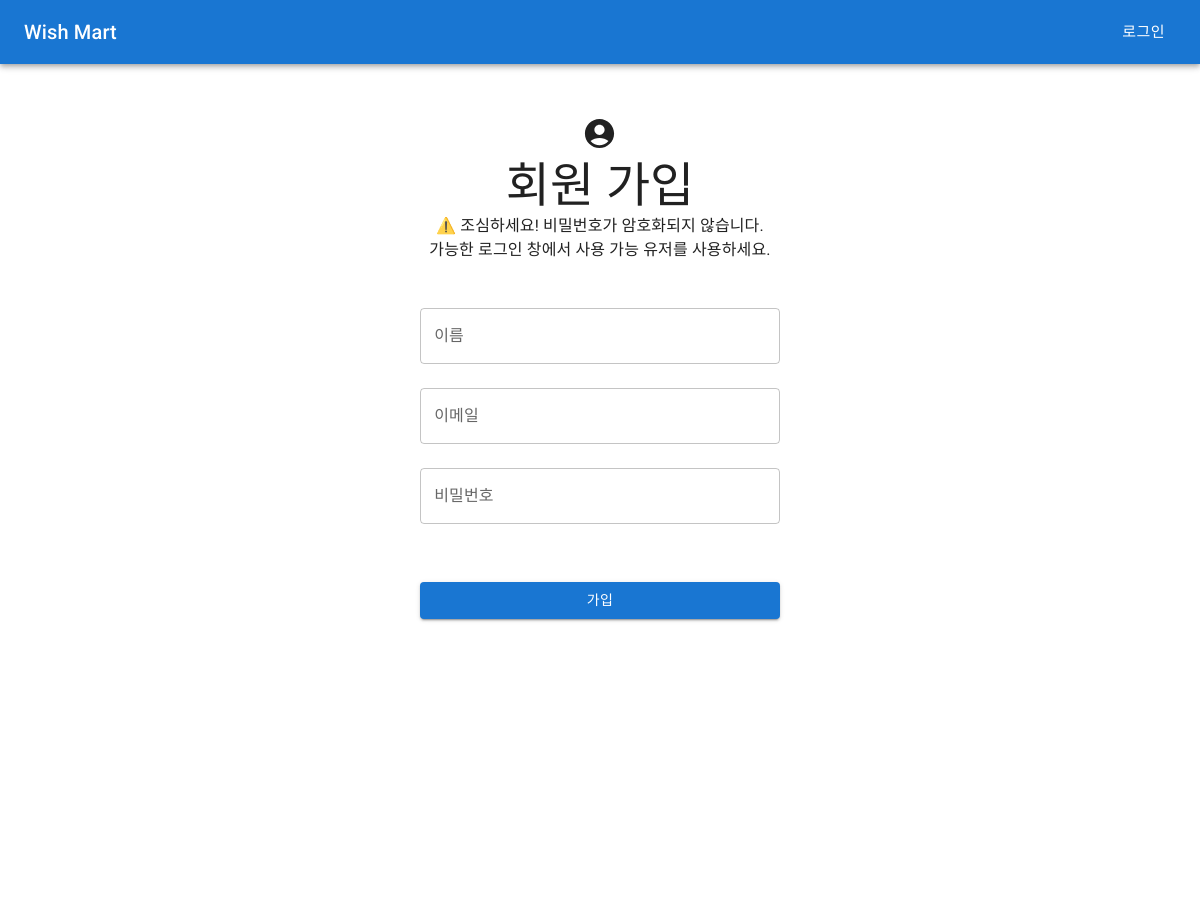
Scenario: 잘못된 양식의 이메일을 입력한 후 가입 버튼을 클릭하면 "이메일 양식이 올바르지 않습니다" 경고 메세지가 노출된다
The image size is (1200, 900).
In the field labelled "이메일": (600, 416) [420,388,780,444], type "email.com"
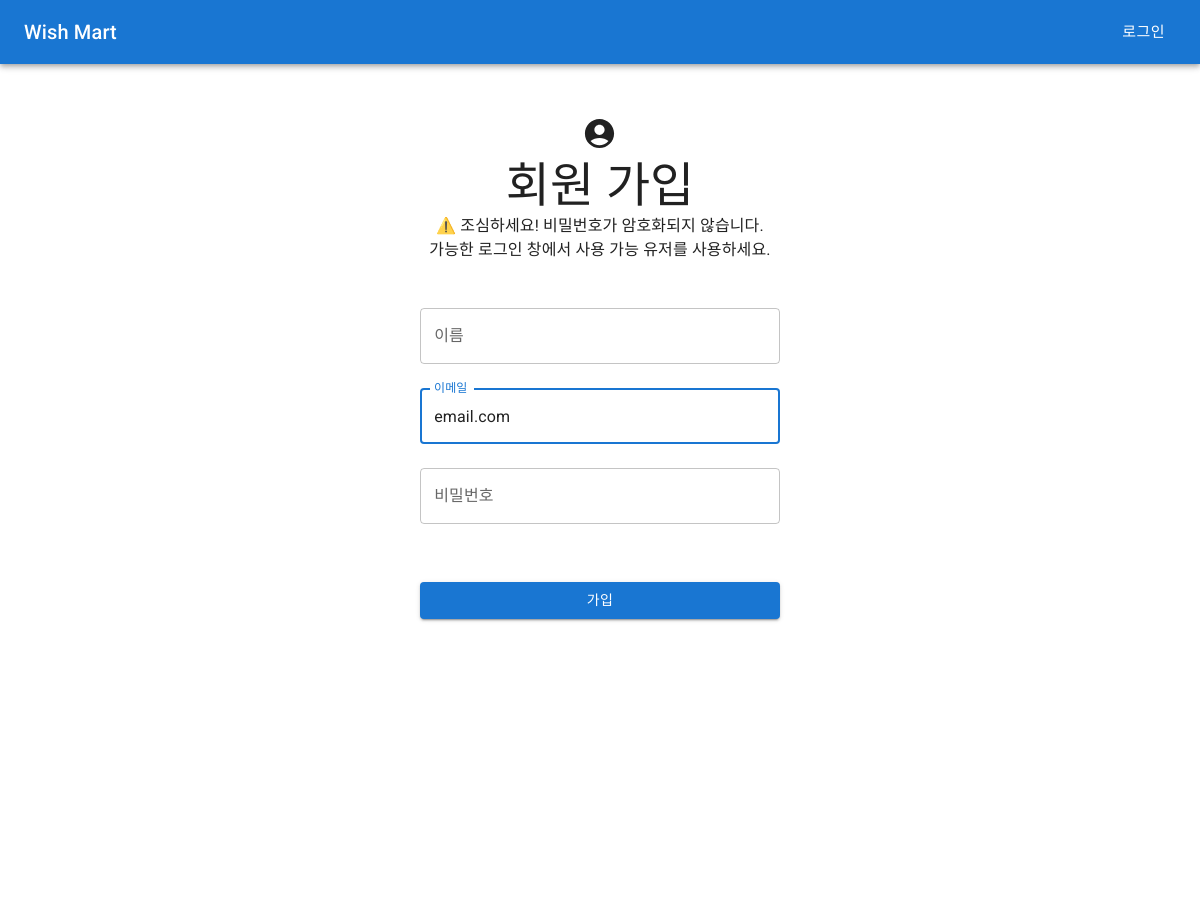
Click the button "가입": (600, 601) [420,582,780,619]
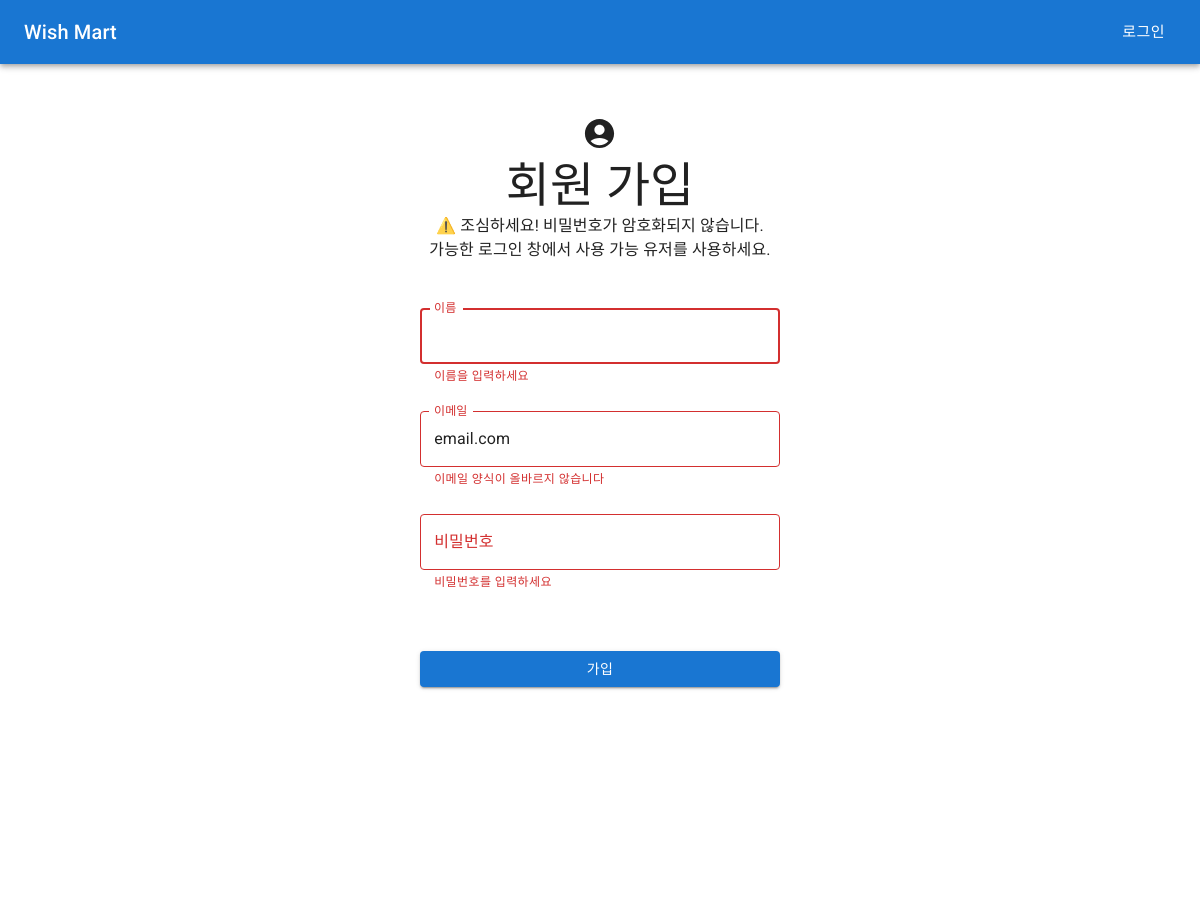
Now the text "이메일 양식이 올바르지 않습니다" is shown, box [434,472,604,486]
